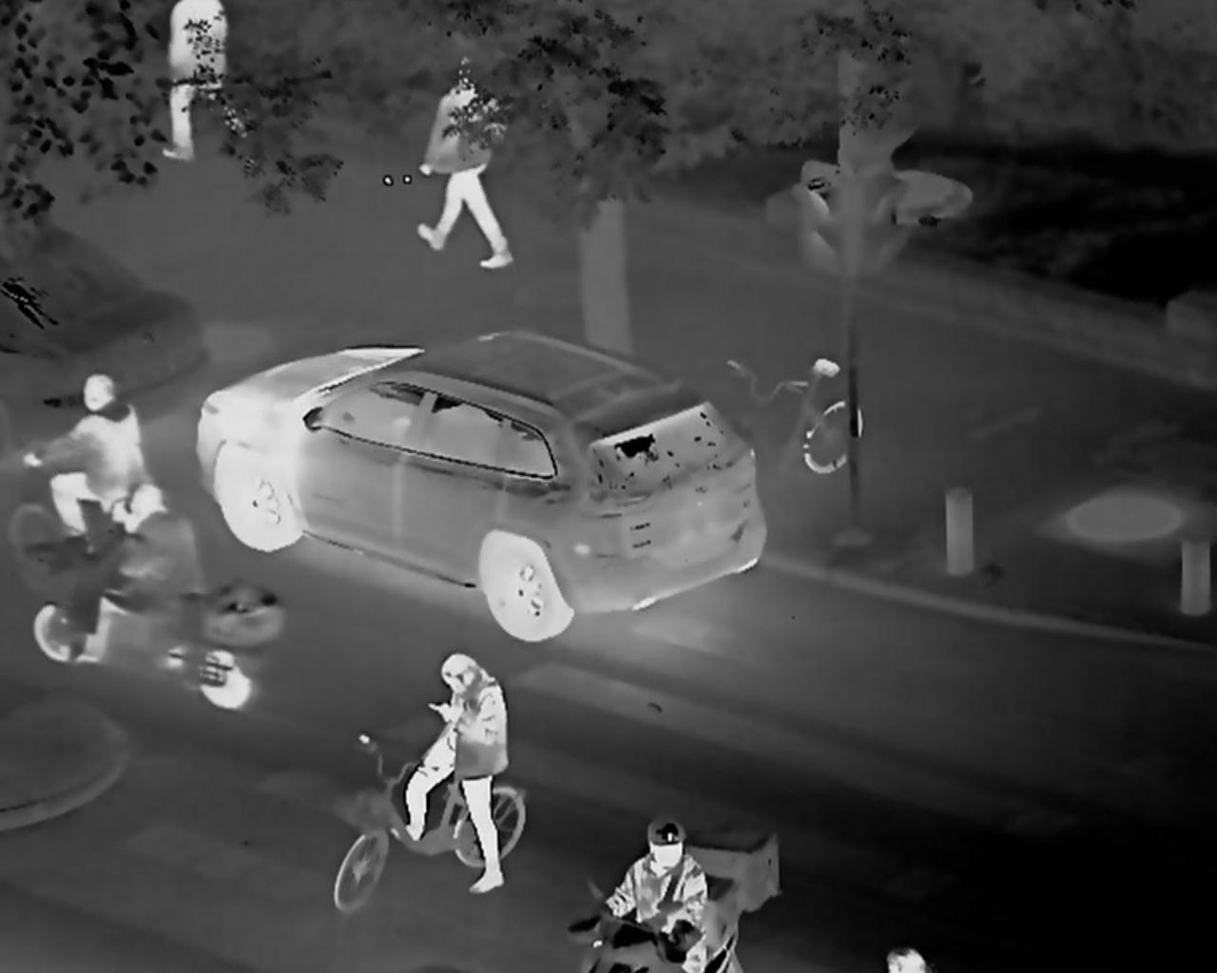person: (374, 652, 510, 897), (16, 377, 153, 574), (65, 490, 204, 676), (412, 51, 514, 278), (579, 820, 707, 973)
